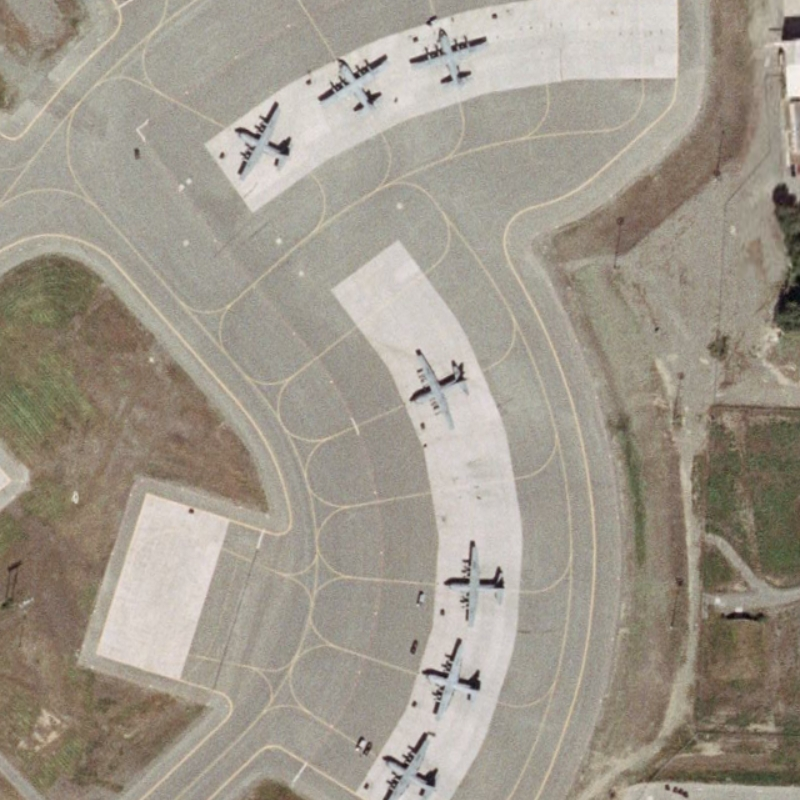A2: (221, 88, 299, 187), (437, 533, 515, 632), (399, 339, 479, 435), (401, 17, 495, 94), (414, 632, 487, 724), (314, 44, 394, 121), (370, 727, 449, 800)
